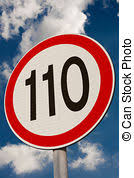Speed_limit_110km: (4, 33, 116, 150)
